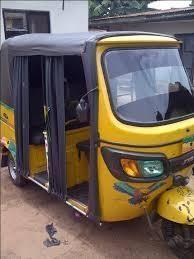keke: (0, 32, 194, 259)
